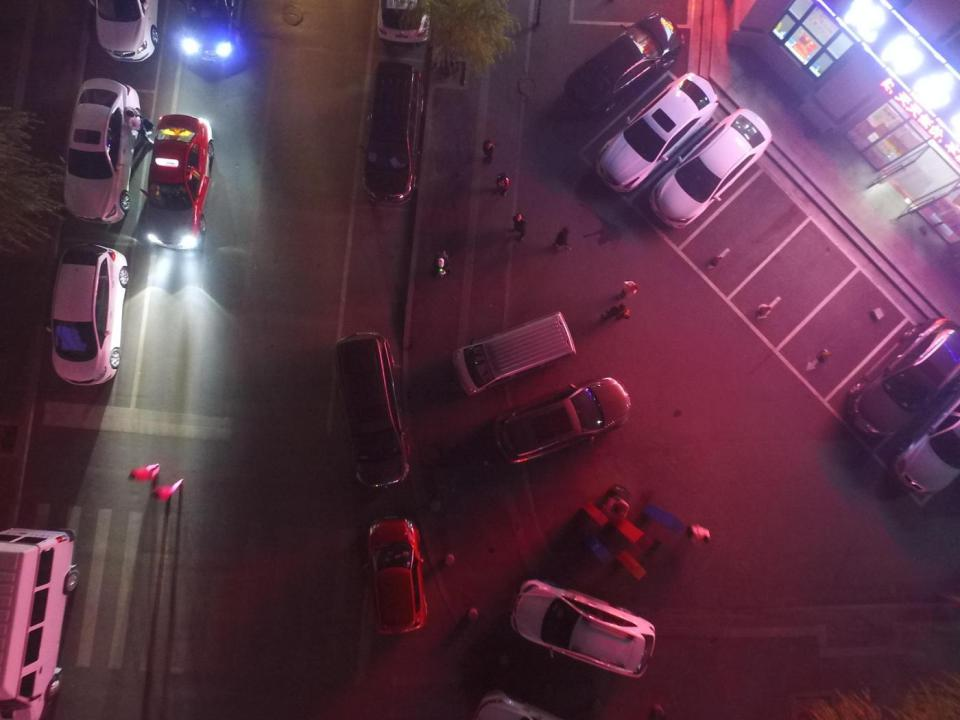car: (594, 72, 718, 194), (648, 108, 772, 228), (509, 580, 654, 680), (846, 316, 960, 437), (44, 243, 129, 387), (494, 378, 630, 464), (60, 77, 139, 223), (565, 13, 682, 110), (139, 114, 214, 249), (360, 515, 428, 632), (892, 384, 960, 494), (91, 1, 158, 62), (180, 1, 243, 62), (377, 1, 431, 44)
van: (0, 526, 80, 720), (335, 332, 409, 487), (452, 312, 576, 394), (357, 62, 424, 204)
